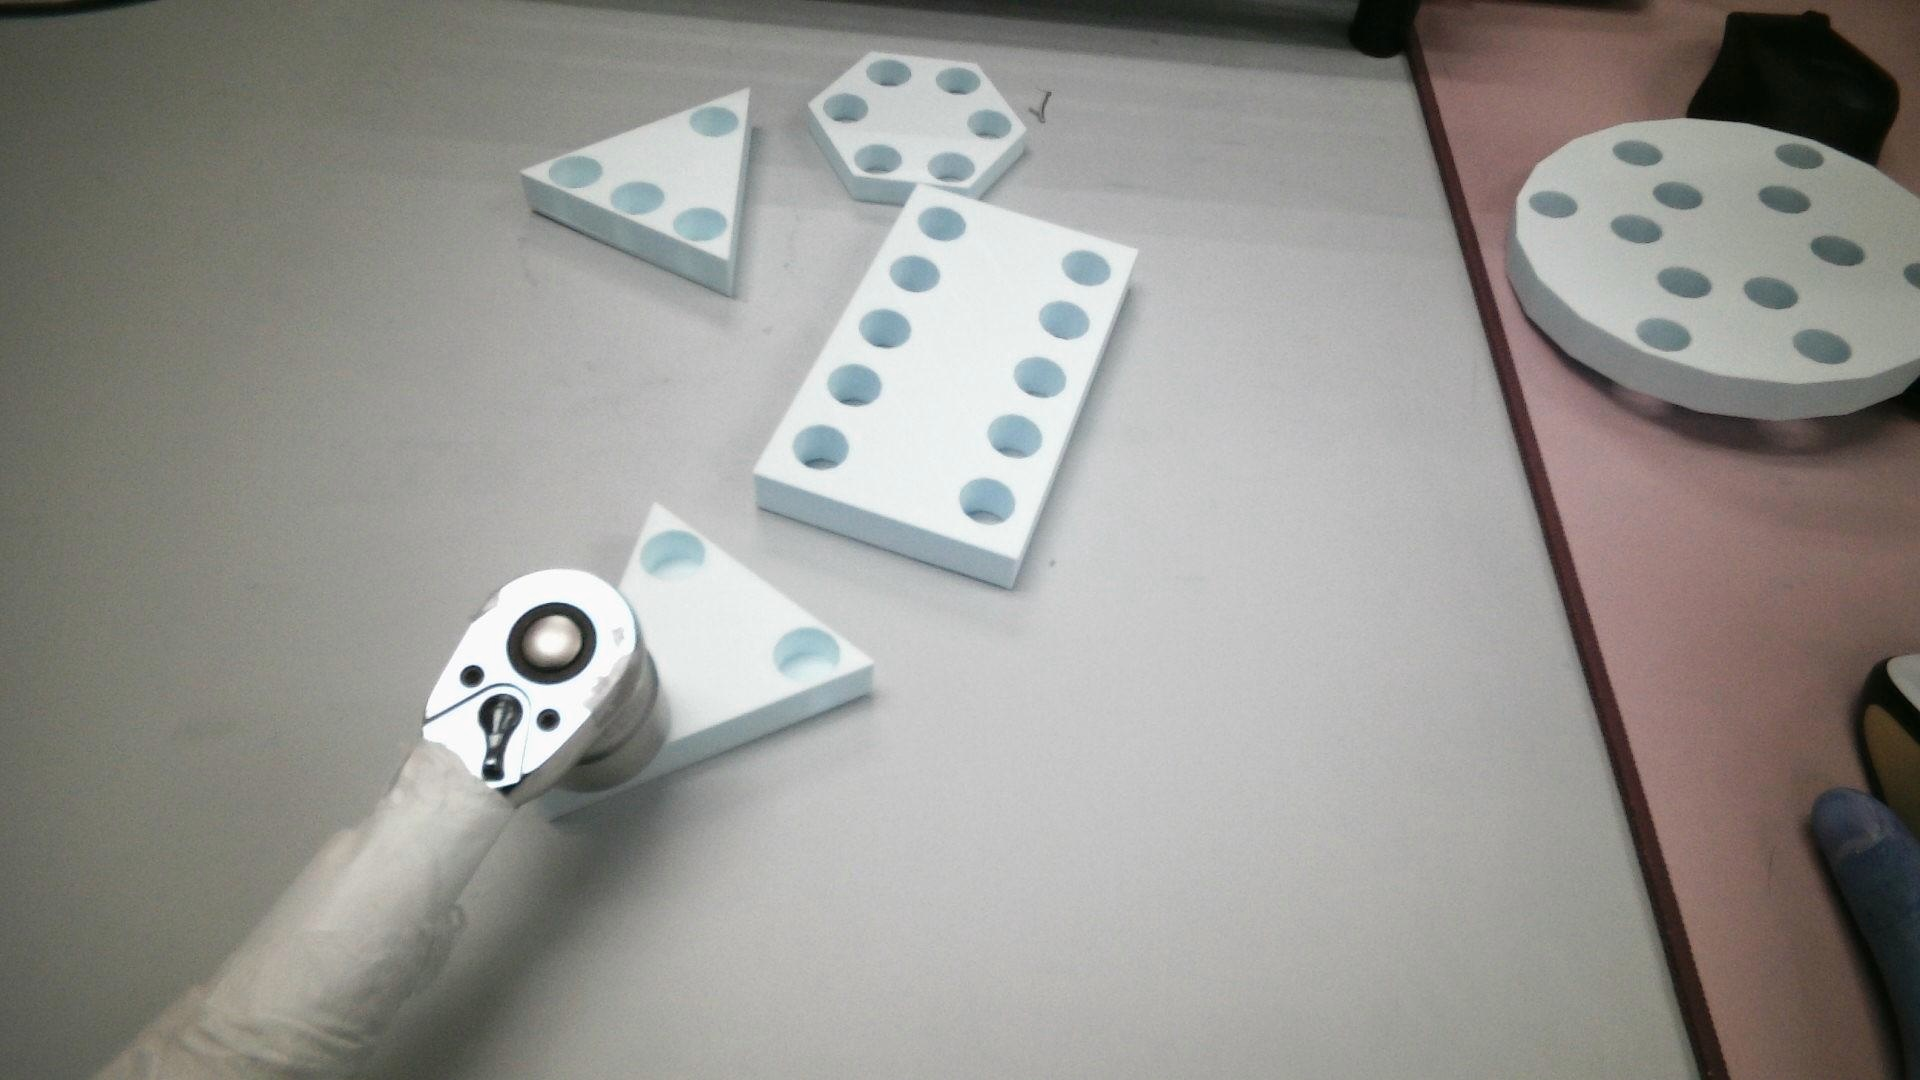hole: (773, 621, 847, 686), (641, 527, 705, 588), (823, 359, 886, 413), (1742, 269, 1804, 316), (793, 421, 847, 475), (1058, 243, 1117, 290), (855, 307, 913, 353), (605, 175, 665, 218), (1018, 353, 1069, 400), (890, 249, 942, 295), (963, 480, 1015, 524), (986, 410, 1036, 455), (1792, 331, 1853, 368), (1758, 186, 1815, 224), (1638, 316, 1695, 353), (1524, 186, 1582, 222), (1658, 262, 1713, 299), (676, 204, 728, 244), (688, 102, 737, 141), (916, 203, 967, 241), (1042, 303, 1095, 339), (1778, 140, 1828, 177), (549, 154, 601, 189), (822, 90, 872, 124), (855, 141, 905, 175), (1658, 181, 1704, 216), (1811, 232, 1859, 265), (1613, 137, 1660, 170), (967, 108, 1013, 141), (926, 150, 975, 181), (1615, 212, 1659, 245), (866, 59, 911, 90), (934, 66, 980, 95)
obj: (746, 179, 1149, 597), (1509, 105, 1915, 477), (495, 487, 876, 819), (513, 79, 762, 291), (799, 37, 1044, 207)
wrench: (506, 600, 593, 688)
